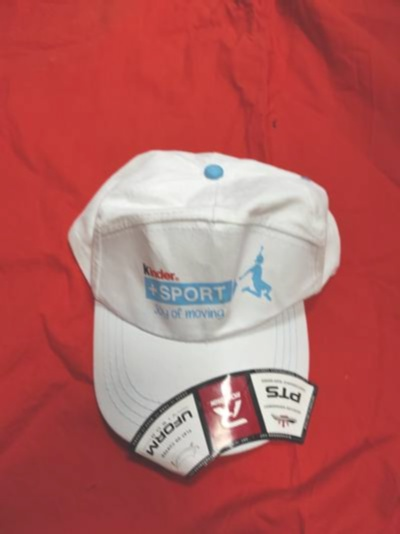Hat: (24, 108, 356, 474)
